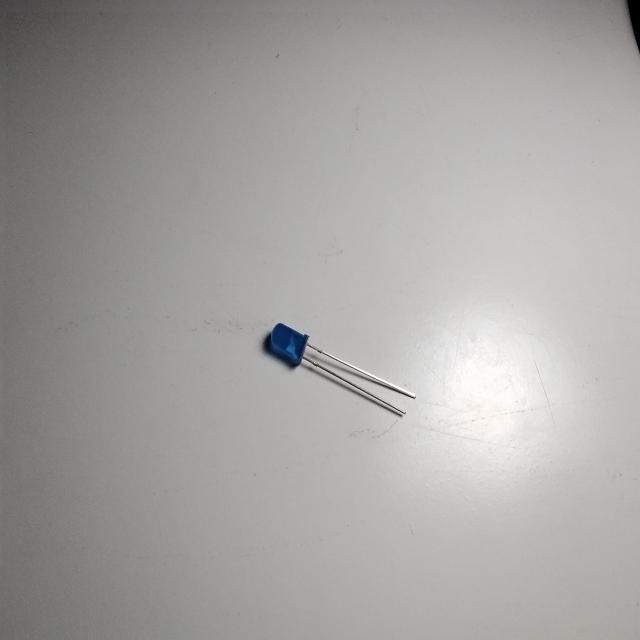blue_led: (269, 321, 309, 367)
